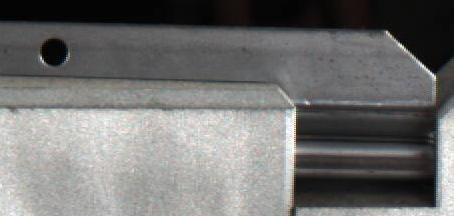cut: (305, 27, 444, 199)
holes: (39, 35, 72, 67)
